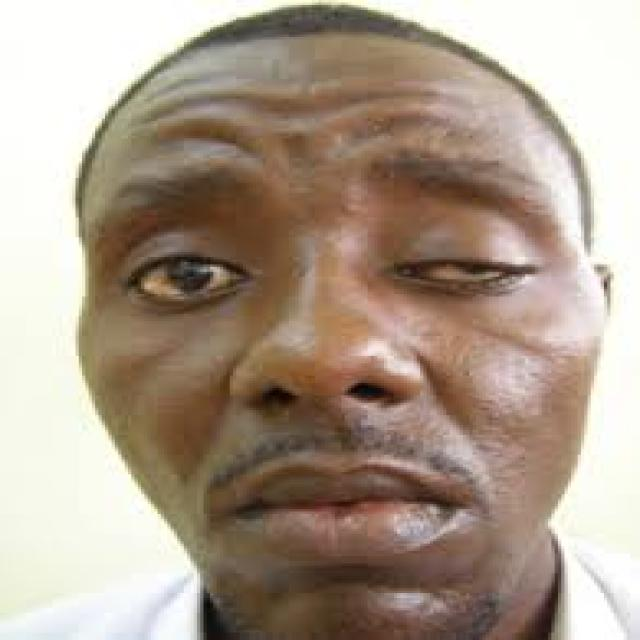stroke_face: (135, 32, 584, 640)
